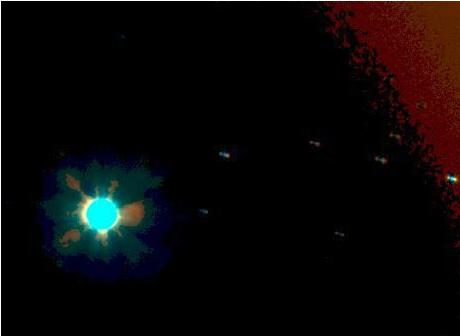star: (85, 219, 115, 249)
